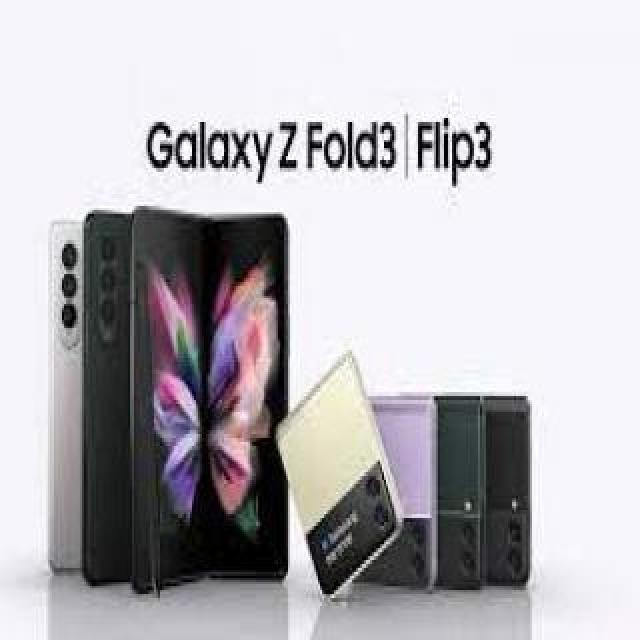smart phone: (125, 205, 302, 598)
